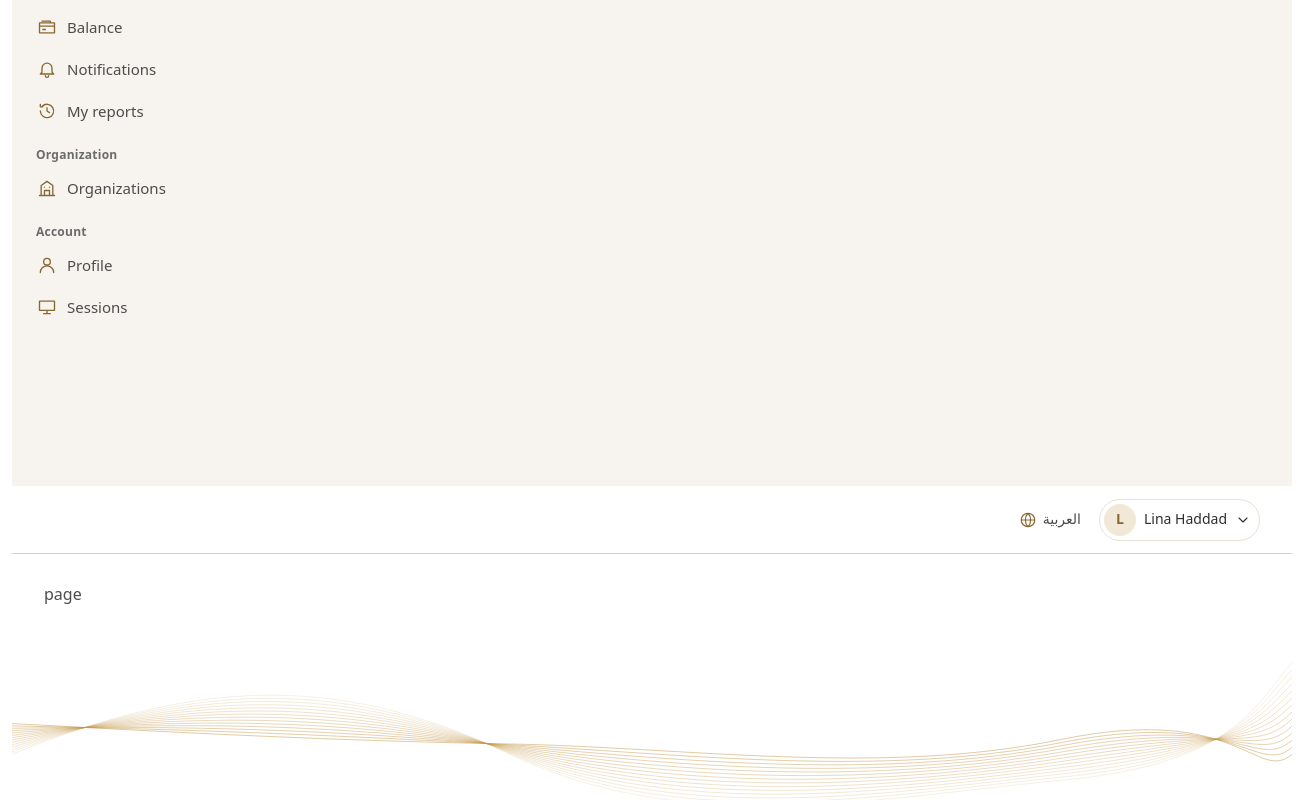
Test: Application shell › closes the account menu on Escape and returns focus to its button
(page scrolled)
Click the button named "account menu": (1180, 520) [1099,498,1260,540]
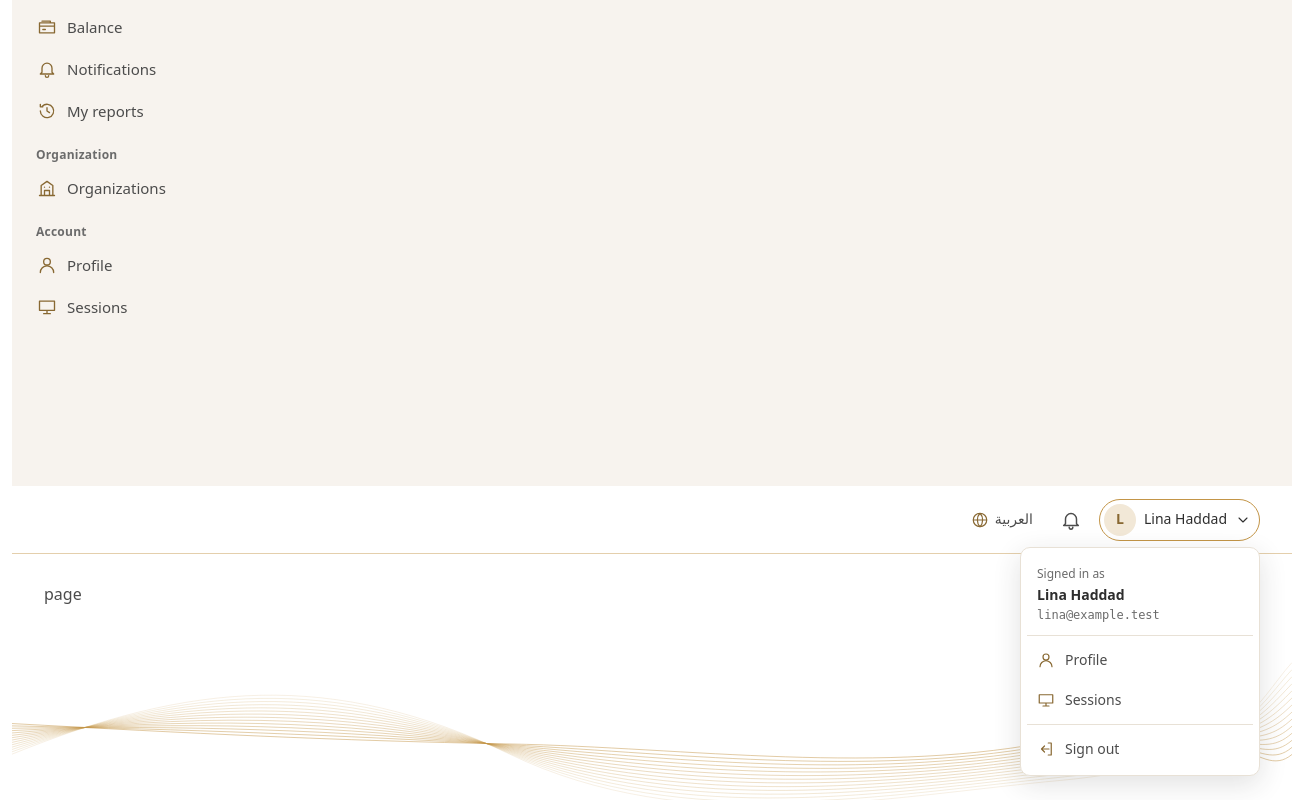
Press Escape
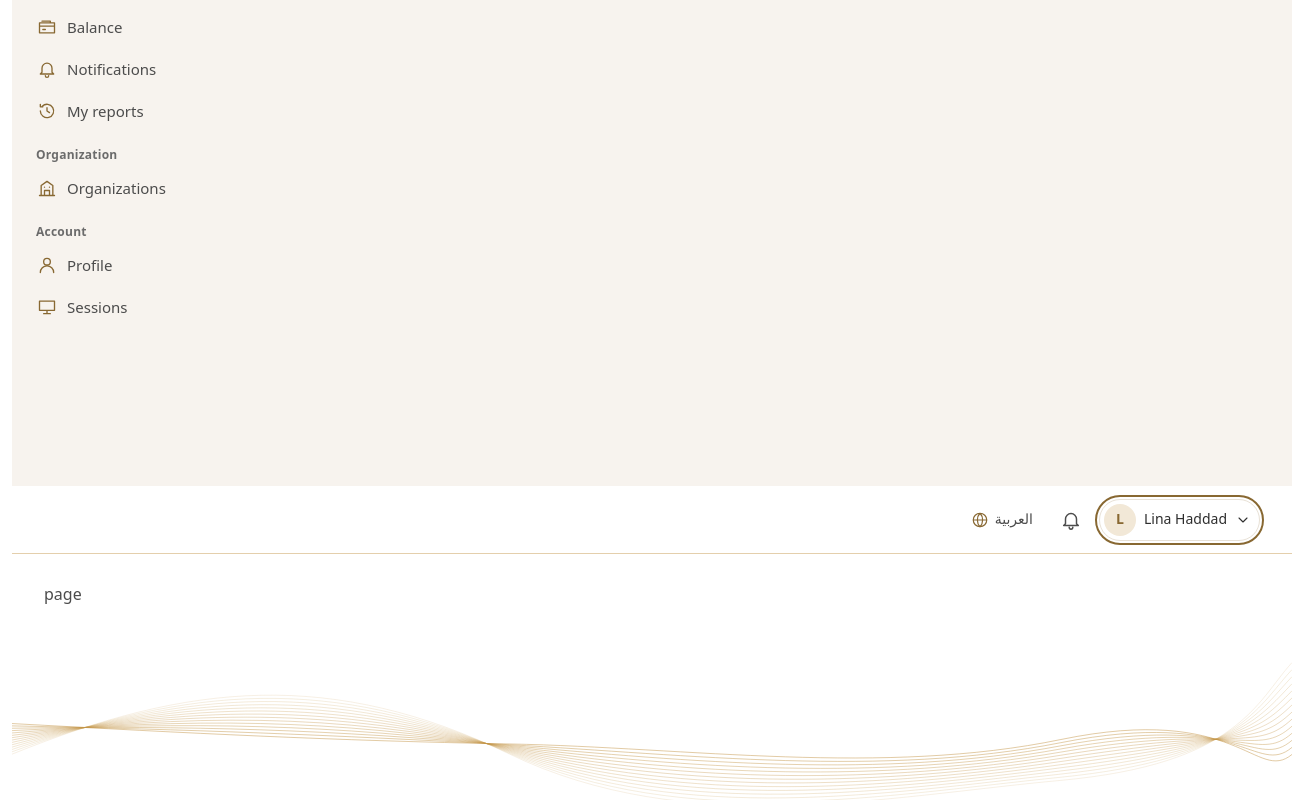
Expected: the button named "account menu" is collapsed, [1099,498,1260,540]
